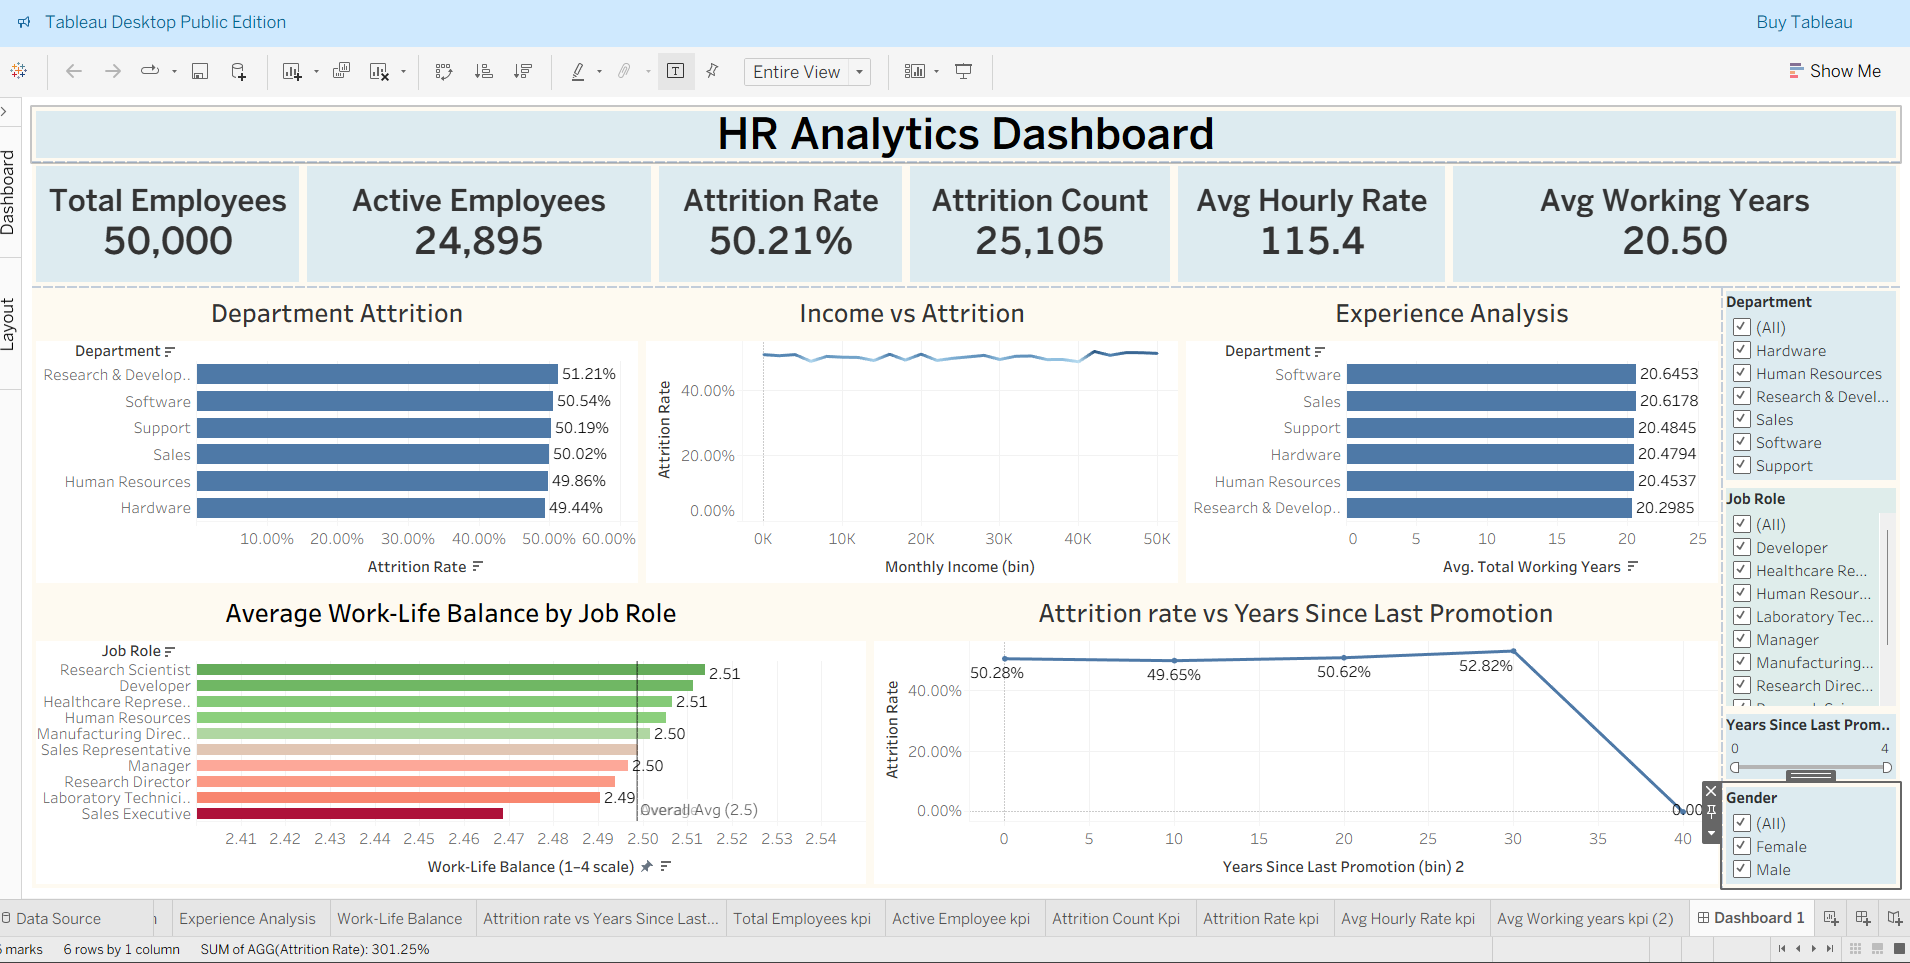

Layout of this report page (visuals, bound fields, positions):
{"tool":"tableau","page":{"name":"Dashboard 1","canvas":[1000,1000],"units":"permille","ordinal":0},"visuals":[{"type":"text","box":[6,11.8,987.9,69]},{"type":"worksheet","title":"Total Employees kpi","mark":"Text","box":[6,80.7,163.6,155.5]},{"type":"worksheet","title":"Active Employee kpi","mark":"Text","box":[169.6,80.7,165.8,155.5]},{"type":"worksheet","title":"Attrition Rate kpi","mark":"Text","box":[335.3,80.7,151.5,155.5]},{"type":"worksheet","title":"Attrition Count Kpi","mark":"Text","box":[486.8,80.7,161.7,155.5]},{"type":"worksheet","title":"Avg Hourly Rate kpi","mark":"Text","box":[648.6,80.7,166,155.5]},{"type":"worksheet","title":"Avg Working years kpi (2)","mark":"Text","box":[814.5,80.7,179.4,155.5]},{"type":"worksheet","title":"Department Attrition","mark":"Automatic","rows":["Department"],"cols":["Calculation_0482202501783552"],"box":[6,236.3,322.5,376]},{"type":"worksheet","title":"Income vs Attrition","mark":"Line","rows":["Calculation_0482202501783552"],"cols":["Monthly Income (bin)"],"box":[328.5,236.3,285.7,376]},{"type":"worksheet","title":"Experience Analysis","mark":"Automatic","rows":["Department"],"cols":["TotalWorkingYears"],"box":[614.2,236.3,285.7,376]},{"type":"filter","title":"Department Attrition","param":"[federated.1kbu80j0xataw41e2aivm0ma383i].[none:Department:nk]","box":[899.8,236.3,94.1,231.5]},{"type":"filter","title":"Work-Life Balance","param":"[federated.1kbu80j0xataw41e2aivm0ma383i].[none:JobRole:nk]","box":[899.8,467.8,94.1,311.3]},{"type":"worksheet","title":"Work-Life Balance","mark":"Bar","rows":["JobRole"],"cols":["WorkLifeBalance"],"box":[6,612.3,443.4,376]},{"type":"worksheet","title":"Attrition rate vs Years Since Last Promotion","mark":"Line","rows":["Calculation_0482202501783552"],"cols":["Years Since Last Promotion (bin) 2"],"box":[449.4,612.3,450.4,376]},{"type":"filter","title":"Attrition rate vs Years Since Last Promotion","param":"[federated.1kbu80j0xataw41e2aivm0ma383i].[none:Years Since Last Promotion (bin) ","box":[899.8,779.1,94.1,85.8]},{"type":"filter","title":"Department Attrition","param":"[federated.1kbu80j0xataw41e2aivm0ma383i].[none:Gender:nk]","box":[899.8,864.9,94.1,123.4]}]}

Visuals, with their boxes on the dashboard's canvas, which has no fixed pixel size, in thousandths of its width and height (x1, y1, x2, y2). These are canvas units, not pixel positions in the 1910x963 screenshot, which may show the page scaled, cropped or inside an application window:
text: (x1=6, y1=12, x2=994, y2=81)
"Total Employees kpi" worksheet (Text marks): (x1=6, y1=81, x2=170, y2=236)
"Active Employee kpi" worksheet (Text marks): (x1=170, y1=81, x2=335, y2=236)
"Attrition Rate kpi" worksheet (Text marks): (x1=335, y1=81, x2=487, y2=236)
"Attrition Count Kpi" worksheet (Text marks): (x1=487, y1=81, x2=648, y2=236)
"Avg Hourly Rate kpi" worksheet (Text marks): (x1=649, y1=81, x2=815, y2=236)
"Avg Working years kpi (2)" worksheet (Text marks): (x1=814, y1=81, x2=994, y2=236)
"Department Attrition" worksheet: (x1=6, y1=236, x2=328, y2=612)
"Income vs Attrition" worksheet (Line marks): (x1=328, y1=236, x2=614, y2=612)
"Experience Analysis" worksheet: (x1=614, y1=236, x2=900, y2=612)
"Department Attrition" filter: (x1=900, y1=236, x2=994, y2=468)
"Work-Life Balance" filter: (x1=900, y1=468, x2=994, y2=779)
"Work-Life Balance" worksheet (Bar marks): (x1=6, y1=612, x2=449, y2=988)
"Attrition rate vs Years Since Last Promotion" worksheet (Line marks): (x1=449, y1=612, x2=900, y2=988)
"Attrition rate vs Years Since Last Promotion" filter: (x1=900, y1=779, x2=994, y2=865)
"Department Attrition" filter: (x1=900, y1=865, x2=994, y2=988)
